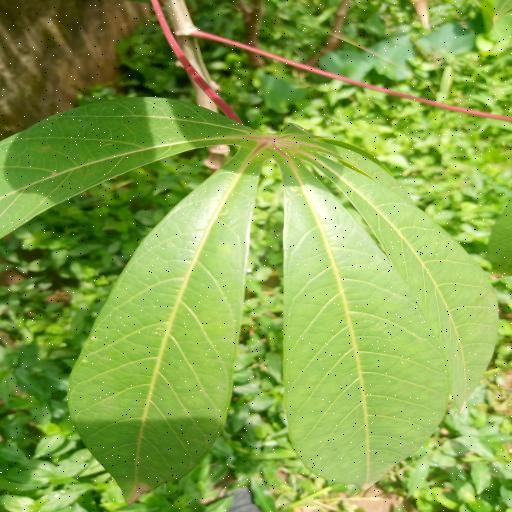Cassava_Healthy: (4, 96, 507, 493)
